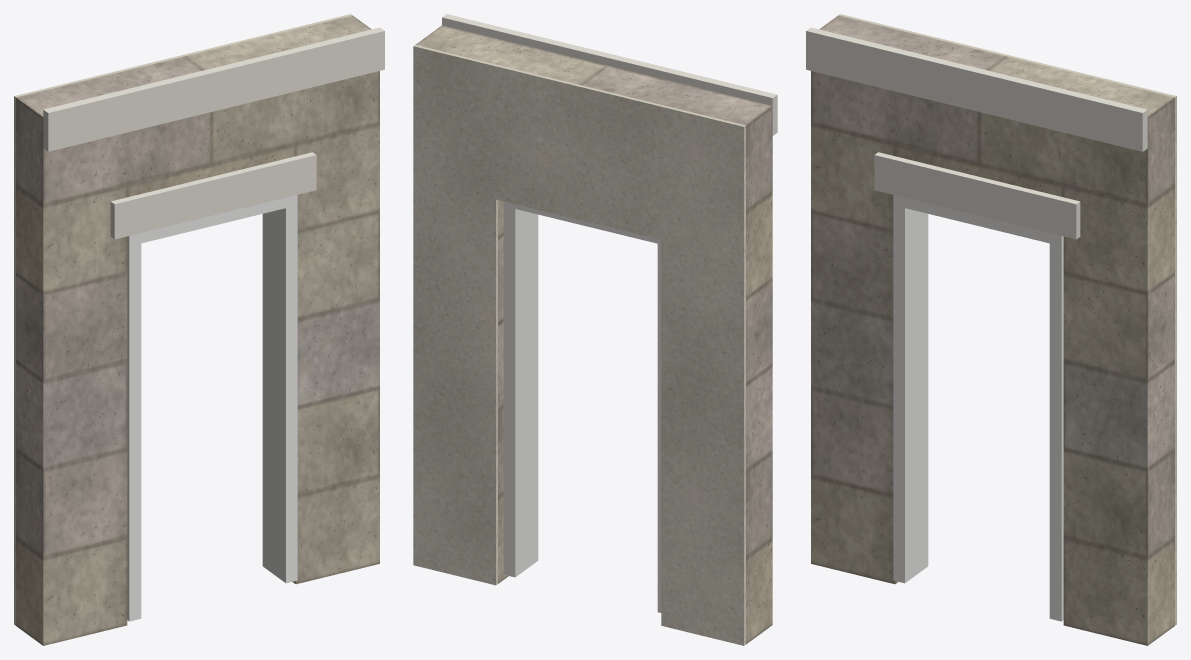
File: wall_b1_backdoor.glb
3 views of the same model, side by side, from view 1: azimuth 30°, elevation 25°; view 2: azimuth 150°, elevation 25°; view 3: azimuth 330°, elevation 25° (orthographic).
Visible parts, largest first — view 1: wall_b1_backdoor_grey, wall_b1_backdoor_lime, wall_b1_backdoor_frame, wall_b1_backdoor_plaster; view 2: wall_b1_backdoor_plaster, wall_b1_backdoor_grey, wall_b1_backdoor_frame, wall_b1_backdoor_lime; view 3: wall_b1_backdoor_grey, wall_b1_backdoor_lime, wall_b1_backdoor_frame, wall_b1_backdoor_plaster.
Boxes of the visible parts, x1,y1,x2,y2 form: wall_b1_backdoor_grey: (16,15,379,645); wall_b1_backdoor_lime: (43,27,384,239); wall_b1_backdoor_frame: (127,195,297,621); wall_b1_backdoor_plaster: (14,14,352,625); wall_b1_backdoor_plaster: (413,45,745,645); wall_b1_backdoor_grey: (415,25,772,644); wall_b1_backdoor_frame: (503,201,661,612); wall_b1_backdoor_lime: (442,14,777,135); wall_b1_backdoor_grey: (811,15,1174,645); wall_b1_backdoor_lime: (806,27,1147,239); wall_b1_backdoor_frame: (893,195,1063,621); wall_b1_backdoor_plaster: (838,14,1176,625).
Size of the model in its own units: 2 by 3.05 by 0.35.
4 materials, 2 textured.
